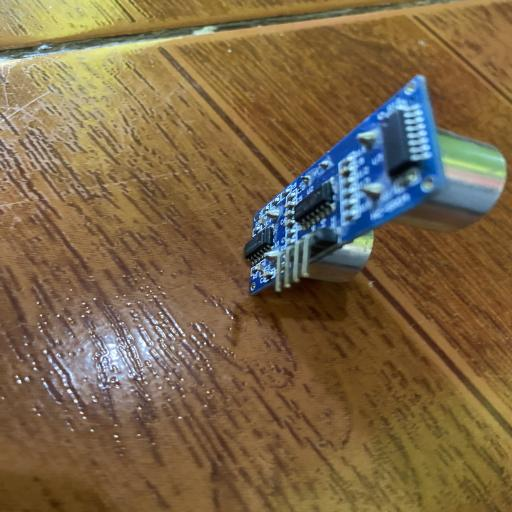Ultrasonic Sensor: (242, 71, 507, 298)
